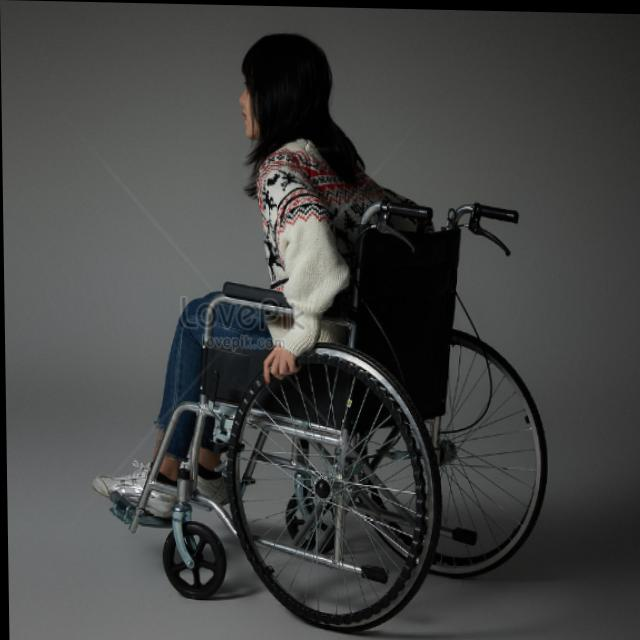wheelchair: (87, 27, 551, 635)
